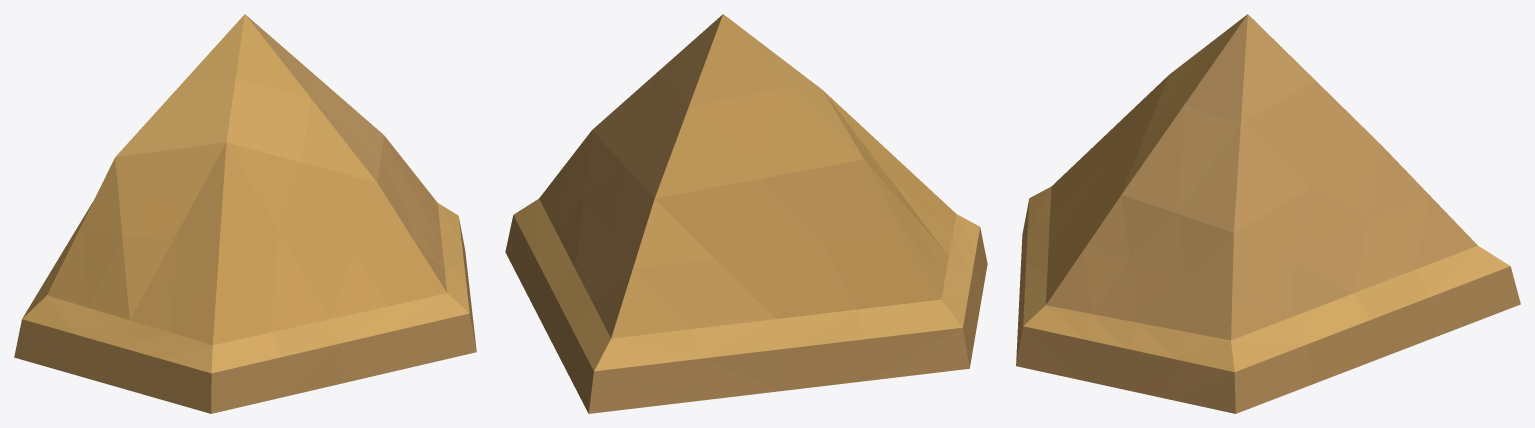
Rendered from hill_sand.glb.
3 views of the same model, side by side, from view 1: azimuth 30°, elevation 25°; view 2: azimuth 150°, elevation 25°; view 3: azimuth 270°, elevation 25° (orthographic). The views are drawn at different scales.
Parts seen in each view (by area): view 1: hill_sand; view 2: hill_sand; view 3: hill_sand.
Boxes of the visible parts, x1,y1,x2,y2 form: hill_sand: [14, 14, 476, 413]; hill_sand: [505, 14, 987, 413]; hill_sand: [1016, 14, 1520, 413].
Bounding box in the file's own units: 1.89 × 1.15 × 1.8.
